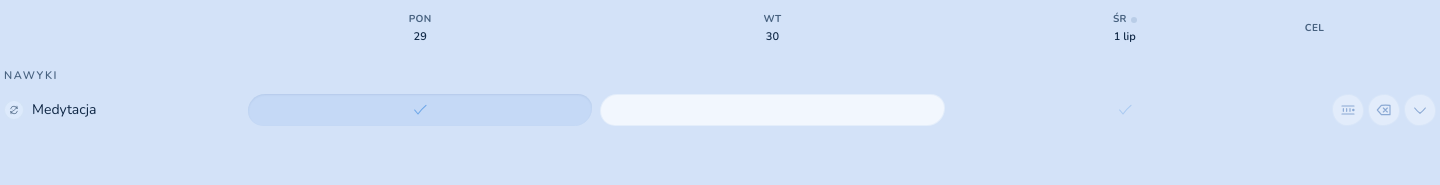
AssignmentMatrix › expandable row toggles the row-detail slot
This screenshot has width=1440, height=185.
Click the button with test id "matrix-expand-habit:h1". click: click(1420, 110)
box: x1=1404 y1=94 x2=1436 y2=126
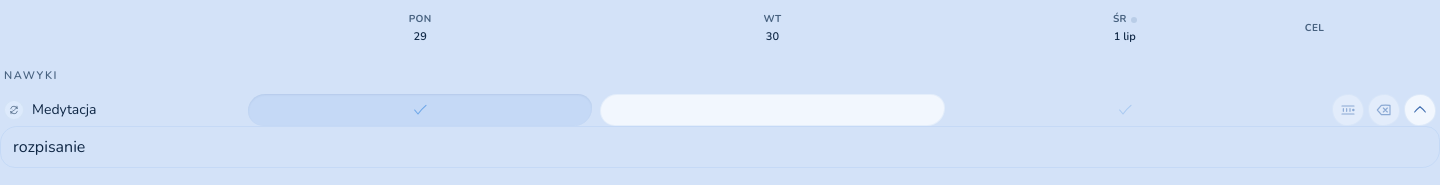
Expected: the text "rozpisanie" is shown, x1=13 y1=136 x2=85 y2=158
Click the button with test id "matrix-expand-habit:h1". click: click(1420, 110)
box: x1=1404 y1=94 x2=1436 y2=126
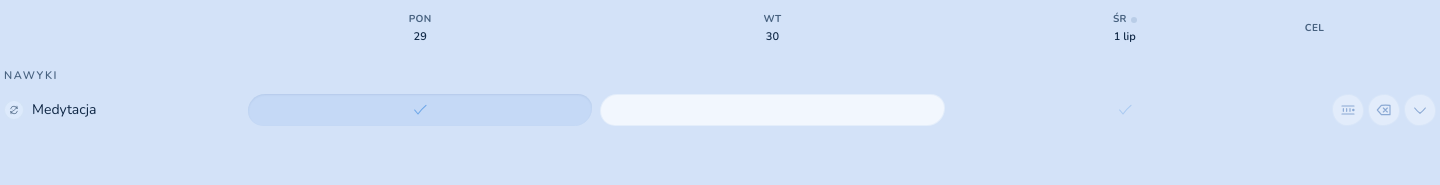
Expected: the text with test id "detail-content" is gone
